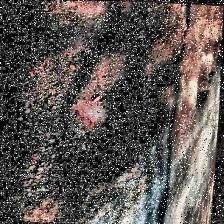pothole: (16, 40, 176, 194), (191, 64, 221, 108)
